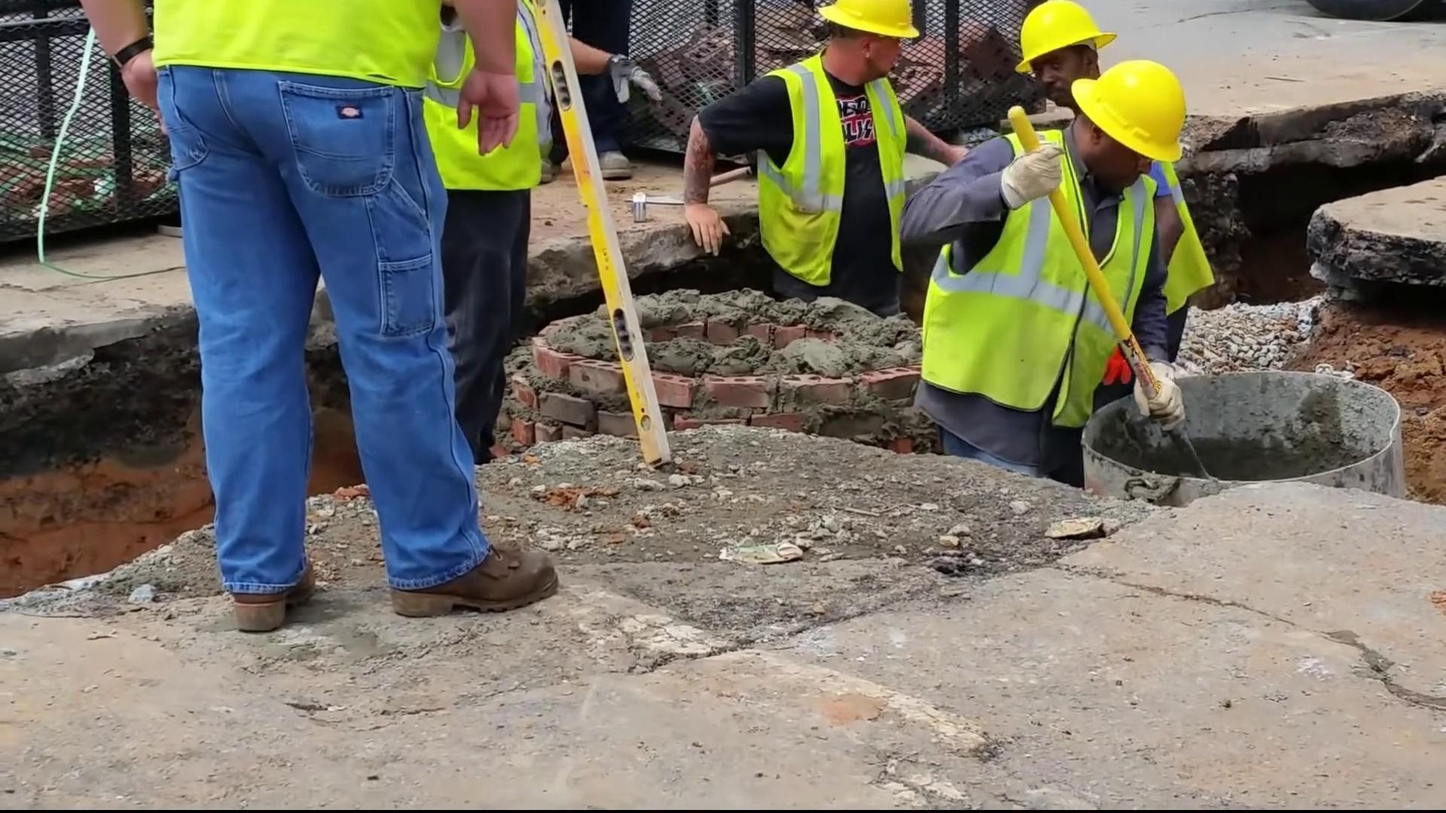apron: (593, 37, 683, 116), (1121, 356, 1189, 435), (987, 148, 1074, 208)
